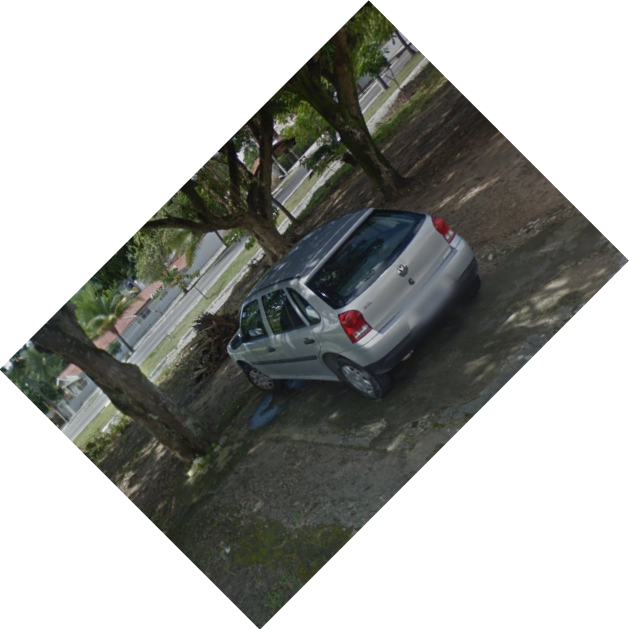car: (224, 203, 488, 403)
